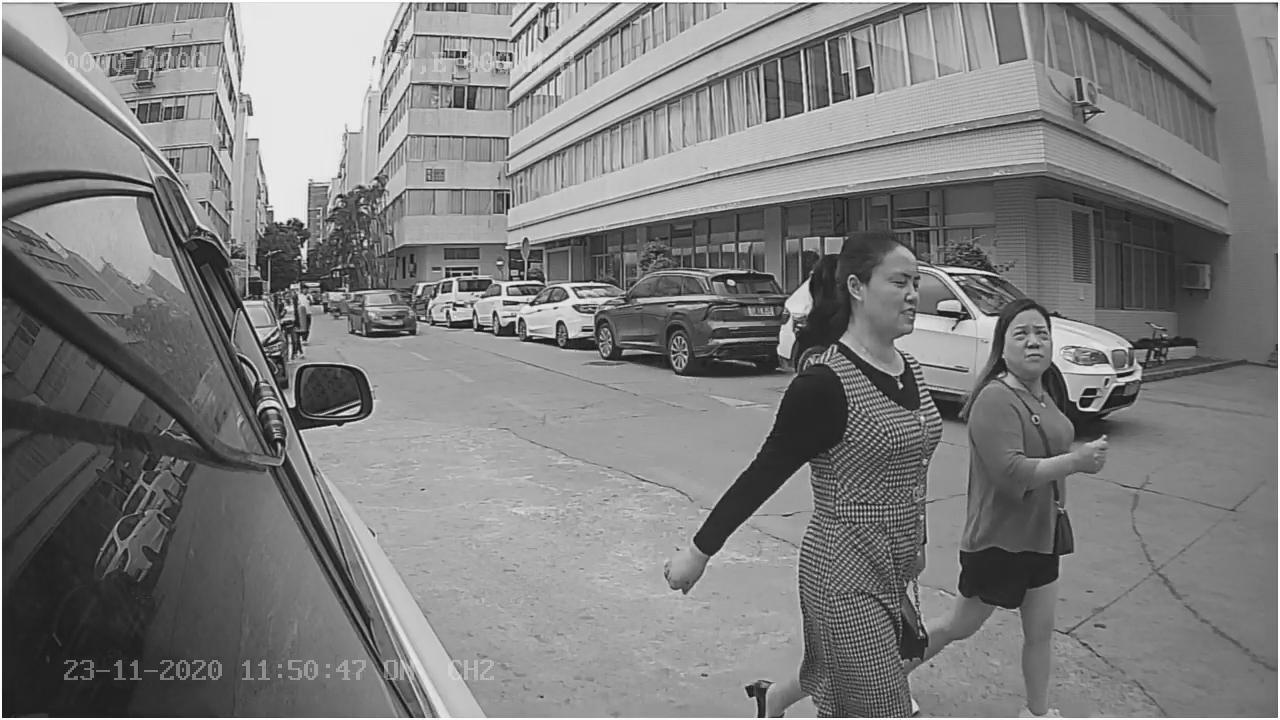person: (749, 221, 947, 479), (966, 295, 1110, 505)
